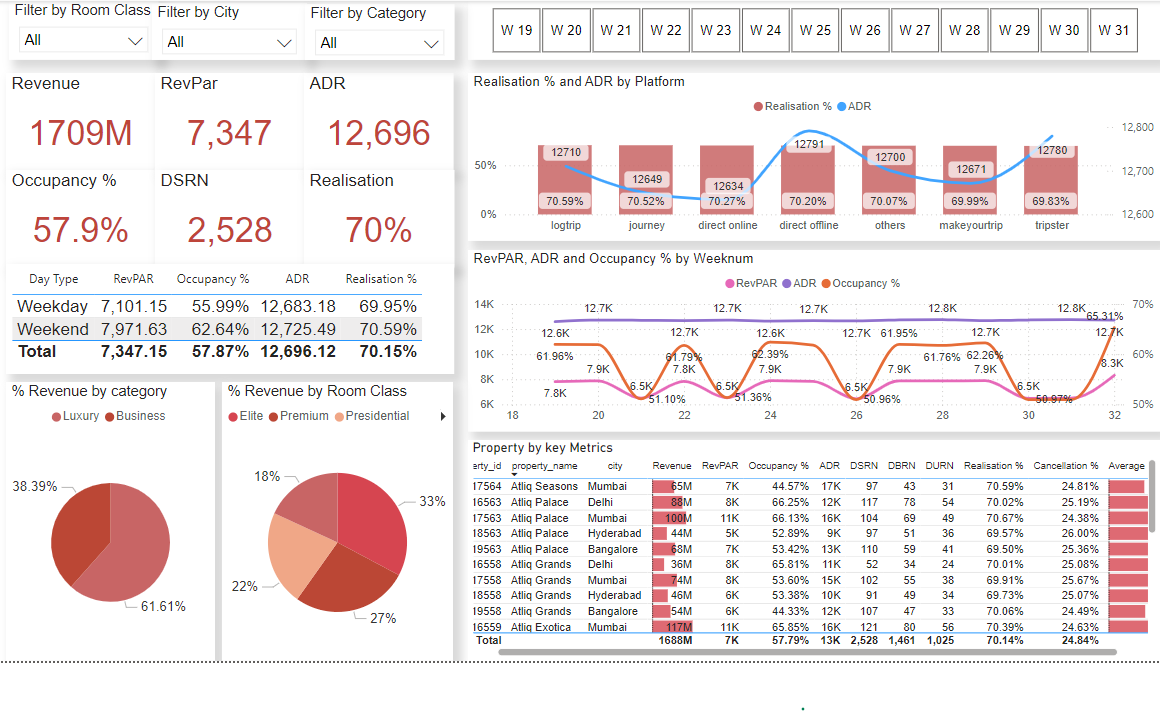

Layout of this report page (visuals, bound fields, positions):
{"tool":"powerbi","page":{"name":"Page 1","canvas":[1280,720],"ordinal":0},"visuals":[{"type":"card","title":"Revenue","fields":{"Values":["Key_Measurse.Revenue"]},"box":[19.7,78.6,162.9,105.7],"z":0,"group":"g1"},{"type":"card","title":"Occupancy %","fields":{"Values":["Key_Measurse.Occupancy %"]},"box":[19.7,184.3,164.3,105.7],"z":4000,"group":"g1"},{"type":"card","title":"RevPar","fields":{"Values":["Key_Measurse.RevPAR"]},"box":[182.6,78.6,162.9,105.7],"z":9000,"group":"g1"},{"type":"card","title":"DSRN","fields":{"Values":["Key_Measurse.DSRN"]},"box":[182.6,184.3,164.3,105.7],"z":10000,"group":"g1"},{"type":"card","title":"ADR","fields":{"Values":["Key_Measurse.ADR"]},"box":[345.4,78.6,162.9,105.7],"z":12000,"group":"g1"},{"type":"card","title":"Realisation","fields":{"Values":["Key_Measurse.Realisation %"]},"box":[345.4,184.3,164.3,105.7],"z":13000,"group":"g1"},{"type":"tableEx","fields":{"Values":["dim_date.Day Type","Key_Measurse.RevPAR","Key_Measurse.Occupancy %","Key_Measurse.ADR","Key_Measurse.Realisation %"]},"box":[19.7,287.2,488.6,120],"z":14000,"group":"g1"},{"type":"slicer","title":"Filter by Room Class","fields":{"Values":["dim_hotels.city"]},"box":[22.9,0,162.6,64.4],"z":14001},{"type":"slicer","title":"Filter by  City","fields":{"Values":["dim_date.mmm yy"]},"box":[179,2.2,169.1,62.2],"z":14002},{"type":"slicer","title":"Filter by week","fields":{"Values":["dim_date.week no"]},"box":[523.8,0,756.2,64.4],"z":14003},{"type":"group","id":"g1","title":"Group 1","box":[19.7,78.6,489,327.7],"z":14004},{"type":"slicer","title":"Filter by  Category","fields":{"Values":["dim_hotels.category"]},"box":[345.9,3.3,162.6,61.1],"z":14005},{"type":"pieChart","title":"% Revenue by category","fields":{"Y":["Key_Measurse.Revenue"],"Category":["dim_hotels.category"]},"box":[19.6,415.8,228.1,304.5],"z":14007},{"type":"lineStackedColumnComboChart","title":"Realisation % and ADR by Platform","fields":{"Category":["fact_bookings.booking_platform"],"Y2":["Key_Measurse.ADR"],"Y":["Key_Measurse.Realisation %"]},"box":[523.8,78.6,756.2,183.3],"z":14008},{"type":"lineChart","fields":{"Category":["dim_date.Weeknum"],"Y":["Key_Measurse.RevPAR","Key_Measurse.ADR"],"Y2":["Key_Measurse.Occupancy %"]},"box":[523.8,271.7,756.2,197.5],"z":14009},{"type":"pieChart","title":"% Revenue by Room Class","fields":{"Y":["Key_Measurse.Revenue"],"Category":["dim_rooms.room_class"]},"box":[255.3,415.8,252.1,304.5],"z":14010},{"type":"tableEx","title":"Property by key Metrics","fields":{"Values":["dim_hotels.property_id","dim_hotels.property_name","dim_hotels.city","Key_Measurse.Revenue","Key_Measurse.RevPAR","Key_Measurse.Occupancy %","Key_Measurse.ADR","Key_Measurse.DSRN","Key_Measurse.DBRN","Key_Measurse.DURN","Key_Measurse.Realisation %","Key_Measurse.Cancellation %"]},"box":[523.8,479,756.2,241.2],"z":14012}]}

Visuals, with their boxes on the page's 1280x720 design canvas (x1, y1, x2, y2). These are canvas units, not pixel positions in the 1160x712 screenshot, which may show the page scaled, cropped or inside an application window:
"Revenue" card: box(20, 79, 183, 184)
"Occupancy %" card: box(20, 184, 184, 290)
"RevPar" card: box(183, 79, 346, 184)
"DSRN" card: box(183, 184, 347, 290)
"ADR" card: box(345, 79, 508, 184)
"Realisation" card: box(345, 184, 510, 290)
tableEx - dim_date.Day Type x Key_Measurse.RevPAR: box(20, 287, 508, 407)
"Filter by Room Class" slicer: box(23, 0, 186, 64)
"Filter by  City" slicer: box(179, 2, 348, 64)
"Filter by week" slicer: box(524, 0, 1280, 64)
"Group 1" group: box(20, 79, 509, 406)
"Filter by  Category" slicer: box(346, 3, 508, 64)
"% Revenue by category" pieChart: box(20, 416, 248, 720)
"Realisation % and ADR by Platform" lineStackedColumnComboChart: box(524, 79, 1280, 262)
lineChart - dim_date.Weeknum x Key_Measurse.RevPAR: box(524, 272, 1280, 469)
"% Revenue by Room Class" pieChart: box(255, 416, 507, 720)
"Property by key Metrics" tableEx: box(524, 479, 1280, 720)
